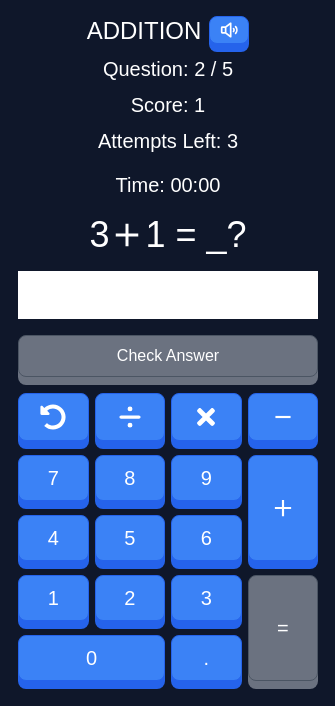
Problems - Integration › if user clicks a number button, it should update the input display
Click the button named "button-1". click: coordinates (53, 598)
box: [18,575,88,621]
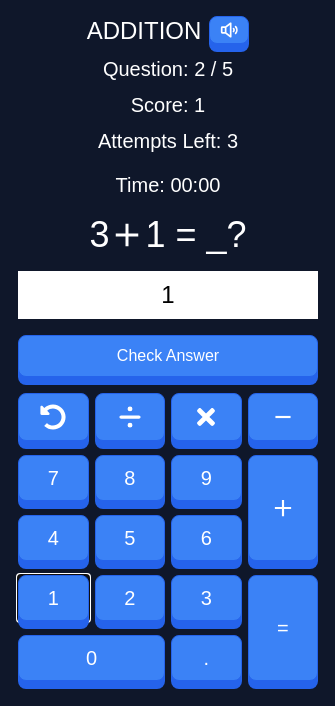
Result: the text named "user-input-value" reads "1" at [161,281,175,308]
